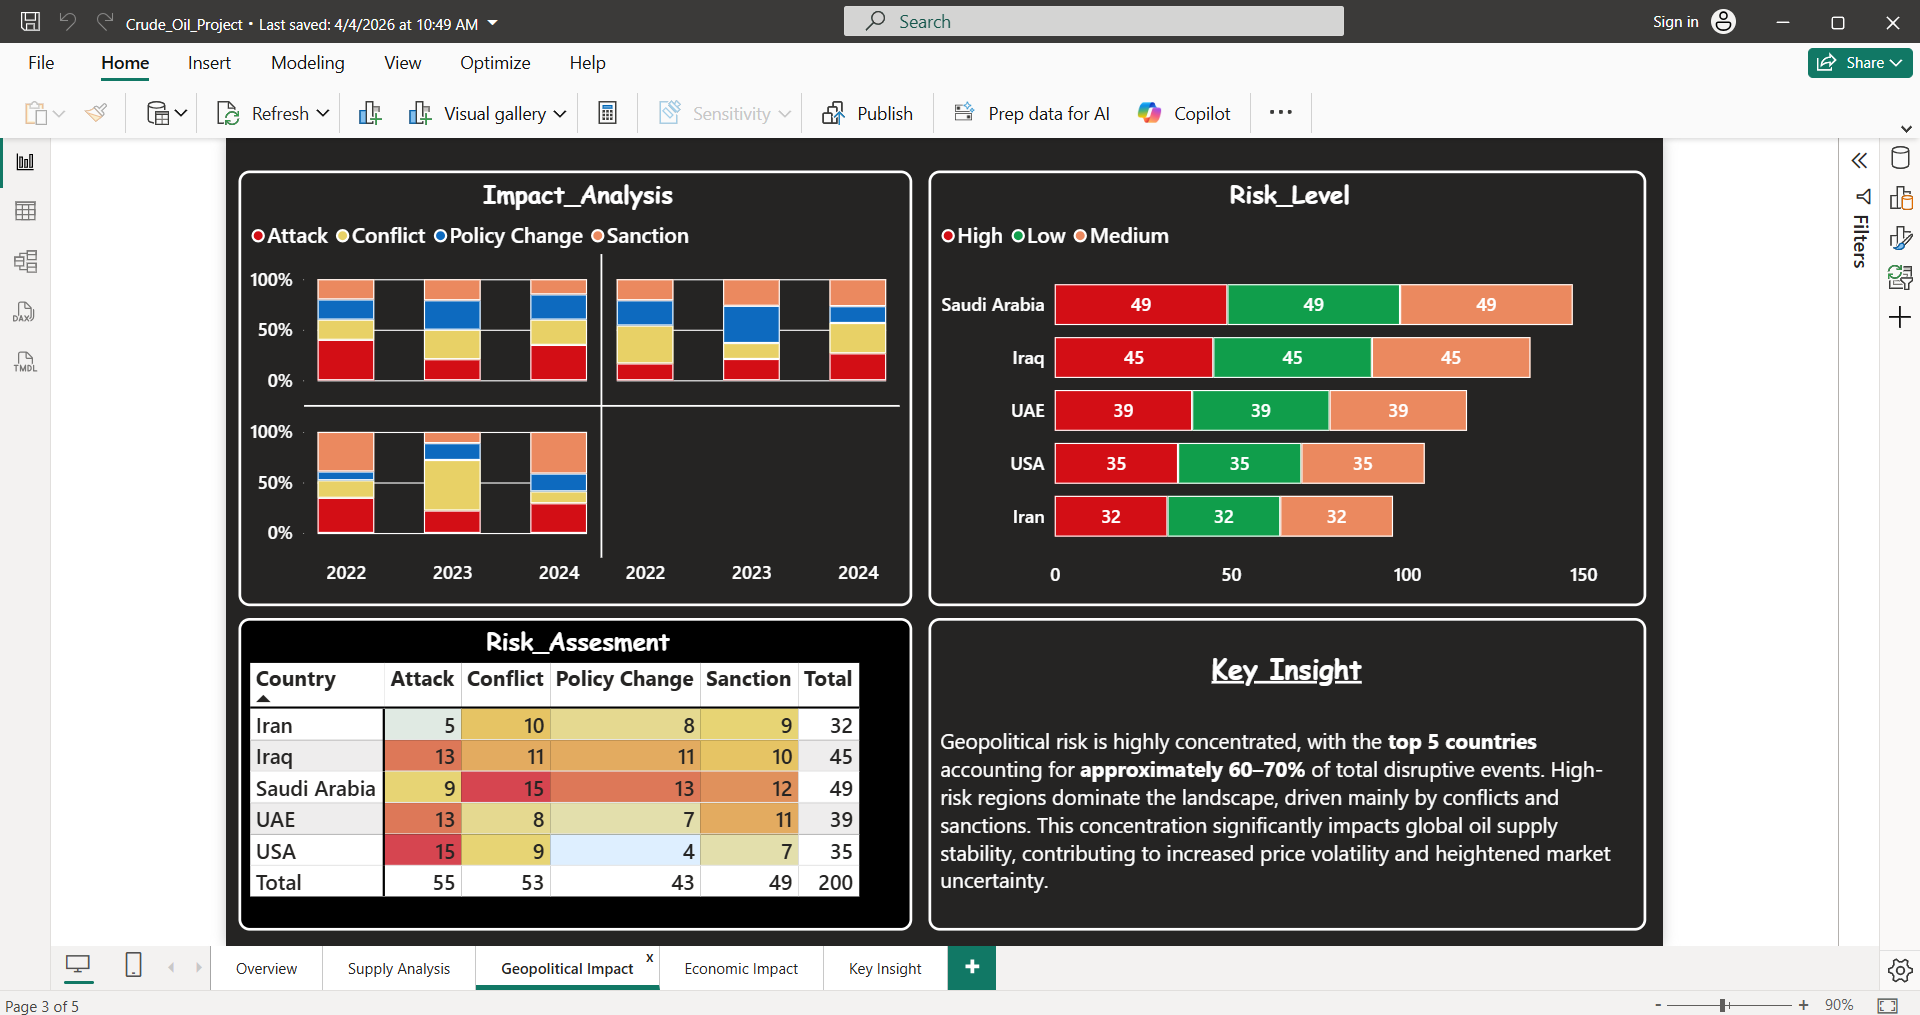

What the dashboard file says about the page in this screenshot:
{"tool":"powerbi","page":{"name":"Geopolitical Impact","canvas":[1280,720],"ordinal":2},"visuals":[{"type":"hundredPercentStackedColumnChart","title":"Impact_Analysis","fields":{"Category":["Date_Table.Year"],"Series":["Geopolitical_Events.Event Type"],"Y":["Geopolitical_Events.Event Count"],"Rows":["Geopolitical_Events.Severity"]},"box":[11.5,28.9,600.2,388.1],"z":0},{"type":"pivotTable","title":"Risk_Assesment","fields":{"Rows":["Geopolitical_Events.Country"],"Columns":["Geopolitical_Events.Event Type"],"Values":["Geopolitical_Events.Event Count"]},"box":[11.5,427.1,600.2,278.5],"z":1000},{"type":"barChart","title":"Risk_Level","fields":{"Category":["Geopolitical_Events.Country"],"Y":["Geopolitical_Events.Event Count"],"Series":["Country Risk Table.Risk Level"]},"box":[626.2,28.9,639.1,388.1],"z":2000},{"type":"textbox","box":[626.2,427.1,639.1,278.5],"z":3000}]}

Visuals, with their boxes on the page's 1280x720 design canvas (x1, y1, x2, y2). These are canvas units, not pixel positions in the 1920x1015 screenshot, which may show the page scaled, cropped or inside an application window:
"Impact_Analysis" hundredPercentStackedColumnChart: Rect(12, 29, 612, 417)
"Risk_Assesment" pivotTable: Rect(12, 427, 612, 706)
"Risk_Level" barChart: Rect(626, 29, 1265, 417)
textbox: Rect(626, 427, 1265, 706)
